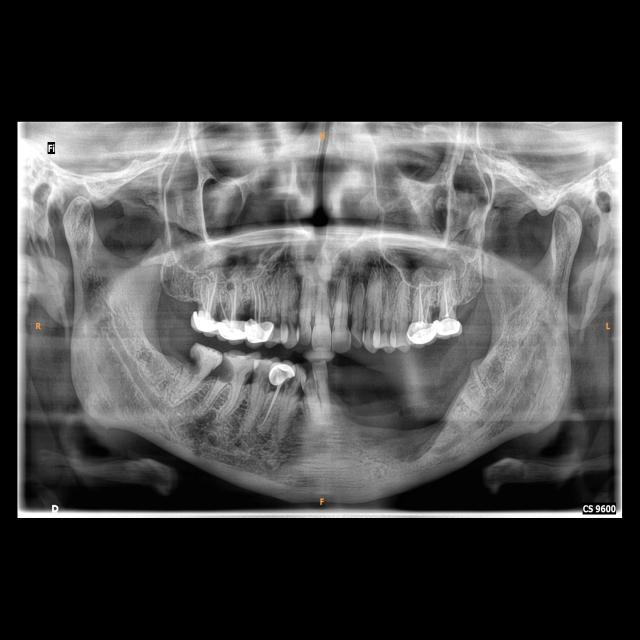dentin-curugu: (218, 358, 238, 385), (184, 350, 202, 377), (286, 317, 300, 336)
kanal-tedavisi: (217, 282, 242, 320), (200, 276, 219, 312), (265, 386, 280, 425), (414, 286, 429, 320), (442, 282, 455, 318), (252, 284, 266, 317)
kaplama: (246, 319, 277, 345), (190, 309, 220, 334), (410, 320, 438, 343), (437, 315, 464, 338), (270, 362, 294, 386), (218, 320, 246, 340)
